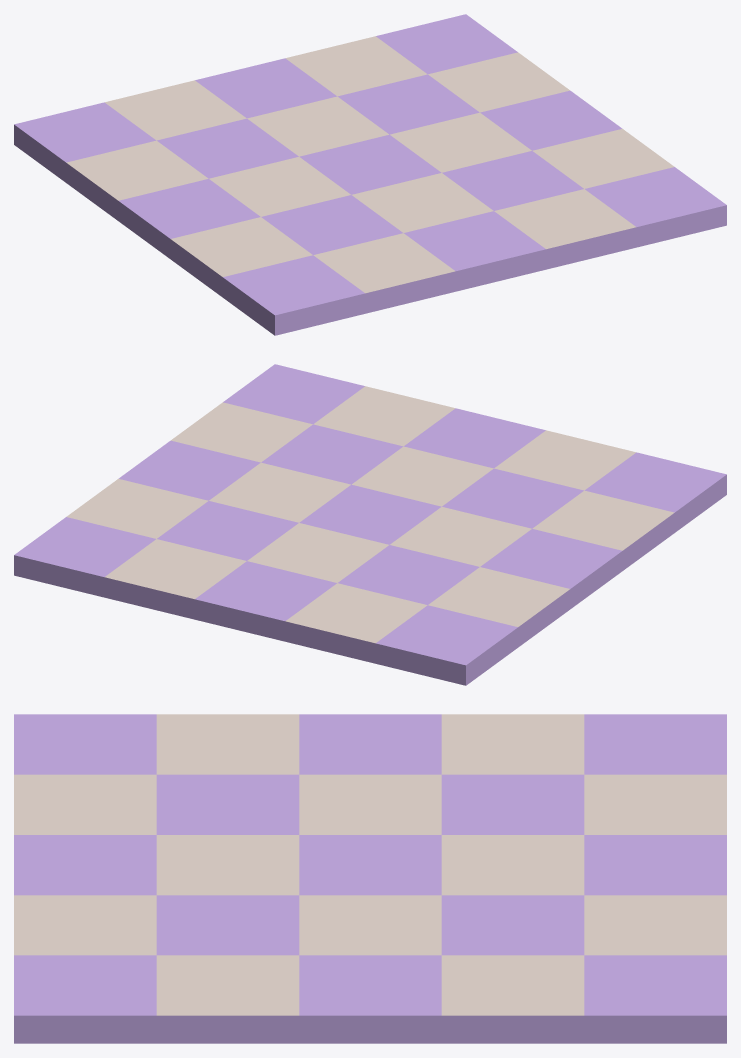
Rendered from Floor_1.glb.
3 renders of one model, top to bottom at view 1: azimuth 30°, elevation 25°; view 2: azimuth 150°, elevation 25°; view 3: azimuth 270°, elevation 25°, orthographic. The views are drawn at different scales.
Parts seen in each view (by area): view 1: Floor_1; view 2: Floor_1; view 3: Floor_1.
Part boxes in pixels (bbox=[...]): Floor_1: bbox=[14, 14, 726, 335]; Floor_1: bbox=[14, 364, 726, 685]; Floor_1: bbox=[14, 714, 726, 1043].
Bounding box in the file's own units: 5 × 0.2158 × 5.
Materials: 1 (1 with a texture image).
